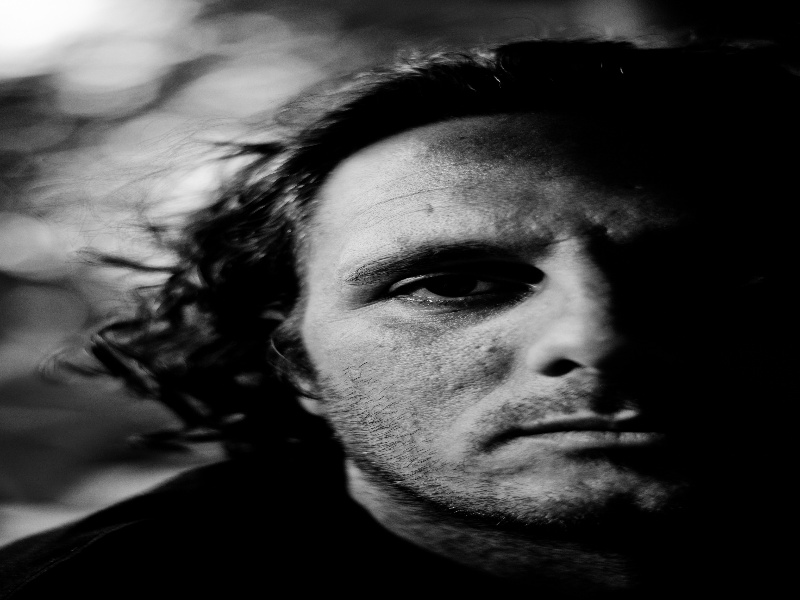face: (295, 123, 789, 513)
